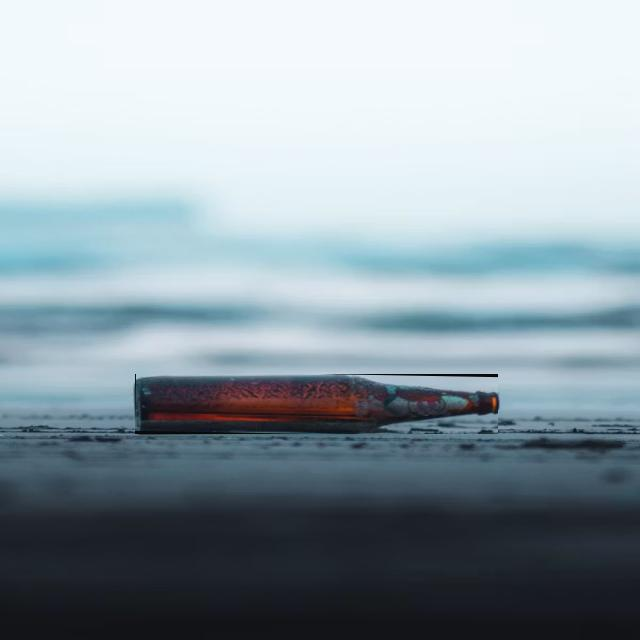Bottle: (135, 375, 498, 433)
